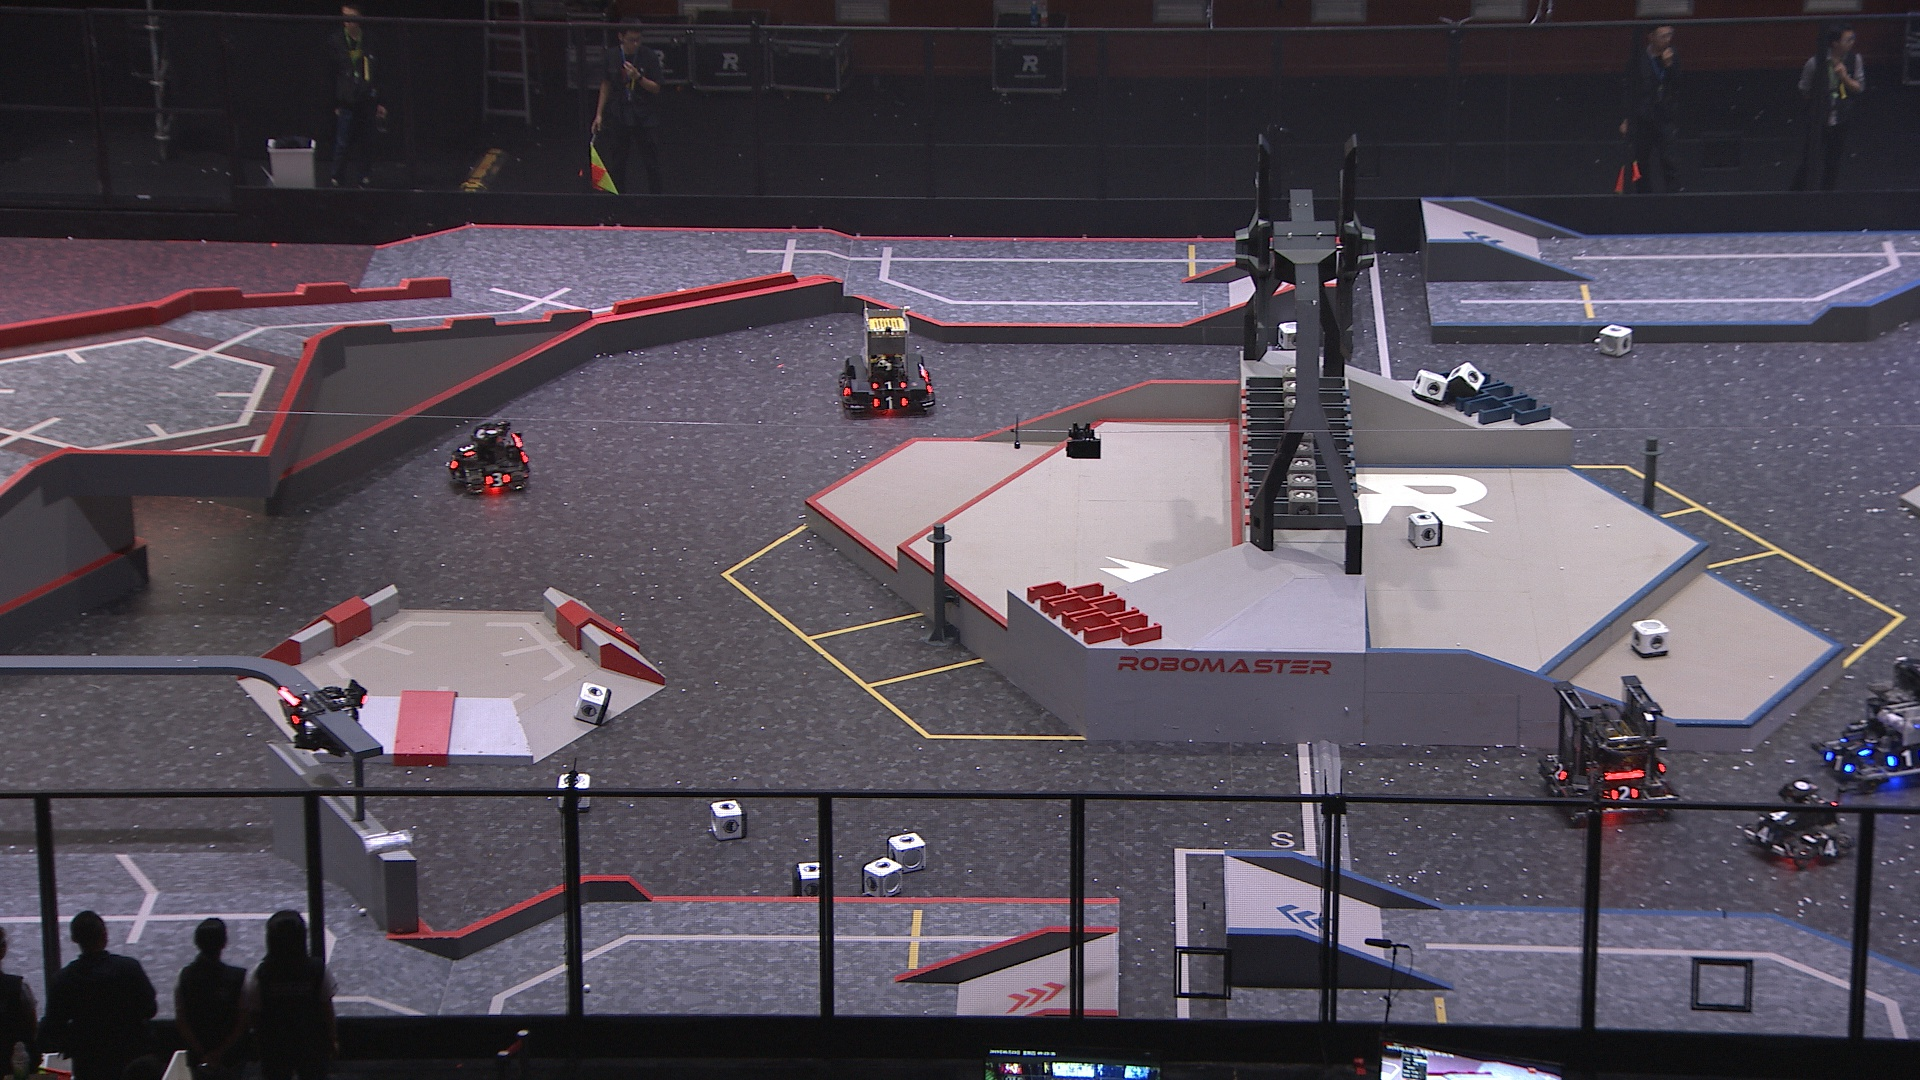armor: (1837, 733, 1871, 760), (1883, 746, 1920, 770), (1822, 750, 1851, 778), (869, 392, 909, 411), (869, 375, 907, 392), (1766, 807, 1799, 827), (278, 698, 301, 727), (484, 469, 513, 491), (1817, 837, 1841, 861), (1753, 822, 1774, 847), (1548, 761, 1569, 785), (1611, 785, 1640, 802), (837, 367, 852, 398), (456, 440, 477, 458), (444, 451, 462, 471)
car: (1538, 678, 1684, 820), (1811, 651, 1920, 794), (832, 299, 945, 419), (1743, 774, 1851, 866), (436, 409, 533, 500)
watcher: (276, 675, 372, 757)
